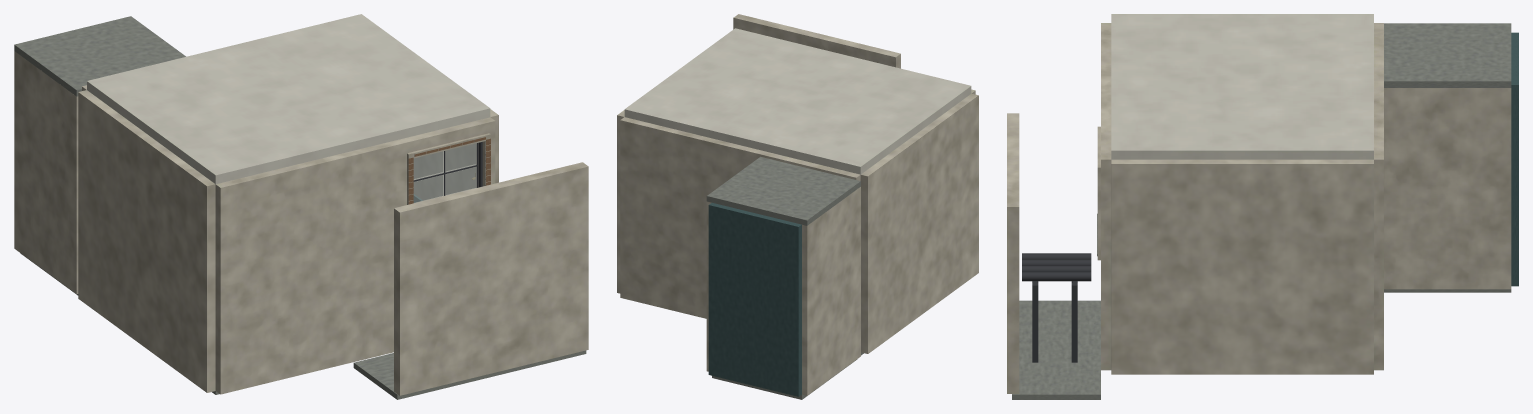
The picture shows the model from 3 angles, left to right: view 1: azimuth 30°, elevation 25°; view 2: azimuth 150°, elevation 25°; view 3: azimuth 270°, elevation 25°; orthographic projection. The views are drawn at different scales.
Parts seen in each view (by area): view 1: part/env_back_wall/body, part/env_ceiling/body, part/env_back_wall/court_wall, part/env_left_wall/body, part/env_front_wall/gallery_sides, part/env_front_wall/gallery_ceiling, part/env_right_wall/body, part/env_back_wall/glass_panes, part/env_back_wall/court_paving, part/env_back_wall/reveal_mortar, part/env_back_wall/brick_reveals; view 2: part/env_ceiling/body, part/env_left_wall/body, part/env_front_wall/body, part/env_front_wall/gallery_end, part/env_front_wall/gallery_sides, part/env_front_wall/gallery_ceiling, part/env_back_wall/court_wall, part/env_right_wall/body, part/env_front_wall/gallery_floor; view 3: part/env_right_wall/body, part/env_ceiling/body, part/env_front_wall/gallery_sides, part/env_front_wall/gallery_ceiling, part/env_back_wall/court_paving, part/env_back_wall/body, part/env_back_wall/court_wall, part/env_front_wall/body, part/env_front_wall/gallery_end, part/env_back_wall/capped_pipe_stock, part/env_back_wall/court_pipe_rack, part/env_back_wall/reveal_mortar (+1 smaller).
Boxes of the visible parts, x1,y1,x2,y2 form: part/env_back_wall/body: (215, 117, 495, 394); part/env_ceiling/body: (87, 14, 490, 184); part/env_back_wall/court_wall: (394, 162, 588, 395); part/env_left_wall/body: (78, 90, 215, 392); part/env_front_wall/gallery_sides: (14, 51, 78, 293); part/env_front_wall/gallery_ceiling: (14, 16, 185, 96); part/env_right_wall/body: (413, 109, 498, 200); part/env_back_wall/glass_panes: (414, 143, 476, 202); part/env_back_wall/court_paving: (353, 350, 586, 399); part/env_back_wall/reveal_mortar: (407, 133, 490, 204); part/env_back_wall/brick_reveals: (408, 137, 490, 204); part/env_ceiling/body: (624, 28, 971, 174); part/env_left_wall/body: (860, 93, 978, 353); part/env_front_wall/body: (620, 117, 860, 318); part/env_front_wall/gallery_end: (708, 202, 801, 396); part/env_front_wall/gallery_sides: (706, 187, 860, 395); part/env_front_wall/gallery_ceiling: (706, 156, 860, 225); part/env_back_wall/court_wall: (733, 14, 900, 68); part/env_right_wall/body: (617, 110, 624, 293); part/env_front_wall/gallery_floor: (712, 359, 857, 399); part/env_right_wall/body: (1111, 159, 1373, 374); part/env_ceiling/body: (1111, 14, 1373, 159); part/env_front_wall/gallery_sides: (1384, 88, 1511, 289); part/env_front_wall/gallery_ceiling: (1384, 23, 1511, 87); part/env_back_wall/court_paving: (1012, 300, 1100, 399); part/env_back_wall/body: (1101, 23, 1111, 370); part/env_back_wall/court_wall: (1007, 113, 1019, 393); part/env_front_wall/body: (1374, 23, 1383, 370); part/env_front_wall/gallery_end: (1511, 32, 1518, 286); part/env_back_wall/capped_pipe_stock: (1022, 253, 1091, 281); part/env_back_wall/court_pipe_rack: (1032, 281, 1077, 362); part/env_back_wall/reveal_mortar: (1097, 126, 1100, 260).
Size of the model in its own units: 3.85 by 2.47 by 5.07.
136 materials, 132 textured.
